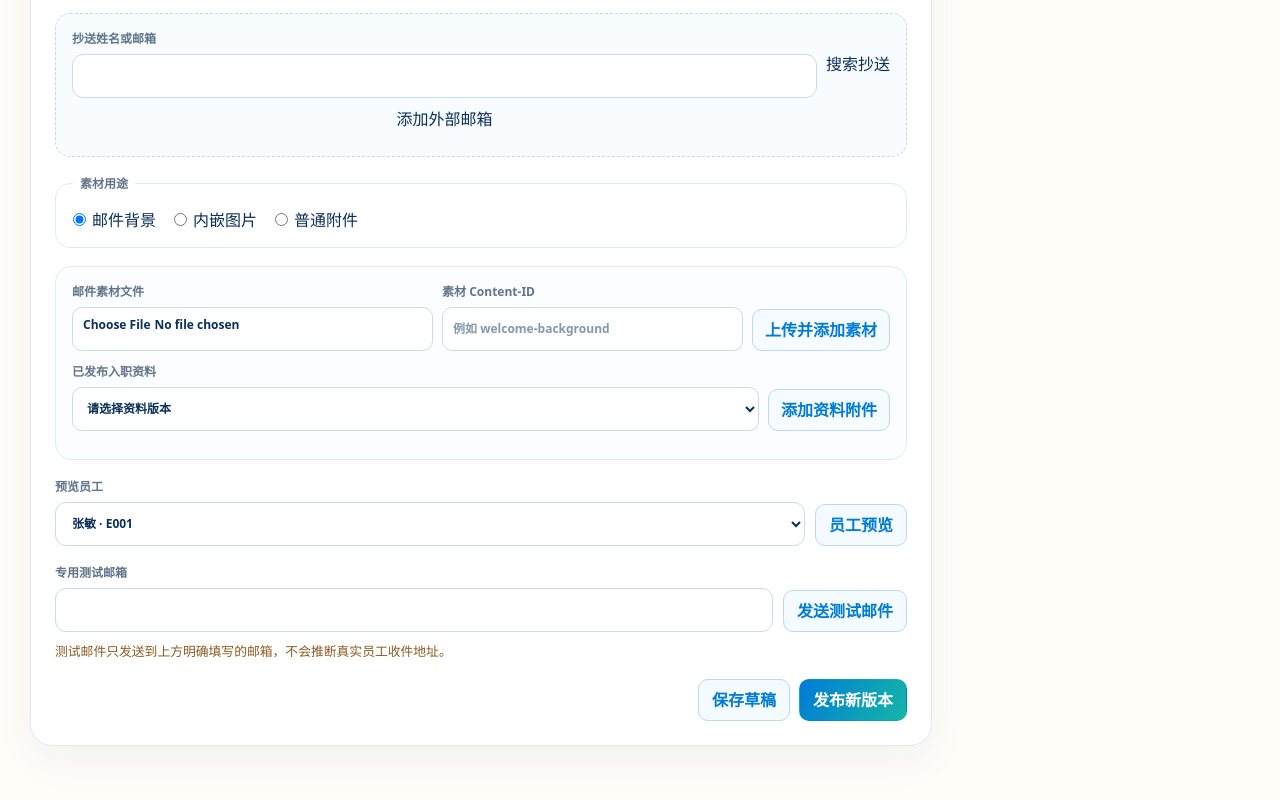
Test case: onboarding mail center interactions › requires an explicit test mailbox and exposes SMTP-tested automation confirmation
(page scrolled)
Click the button "发送测试邮件": click(845, 611) [783,590,907,632]
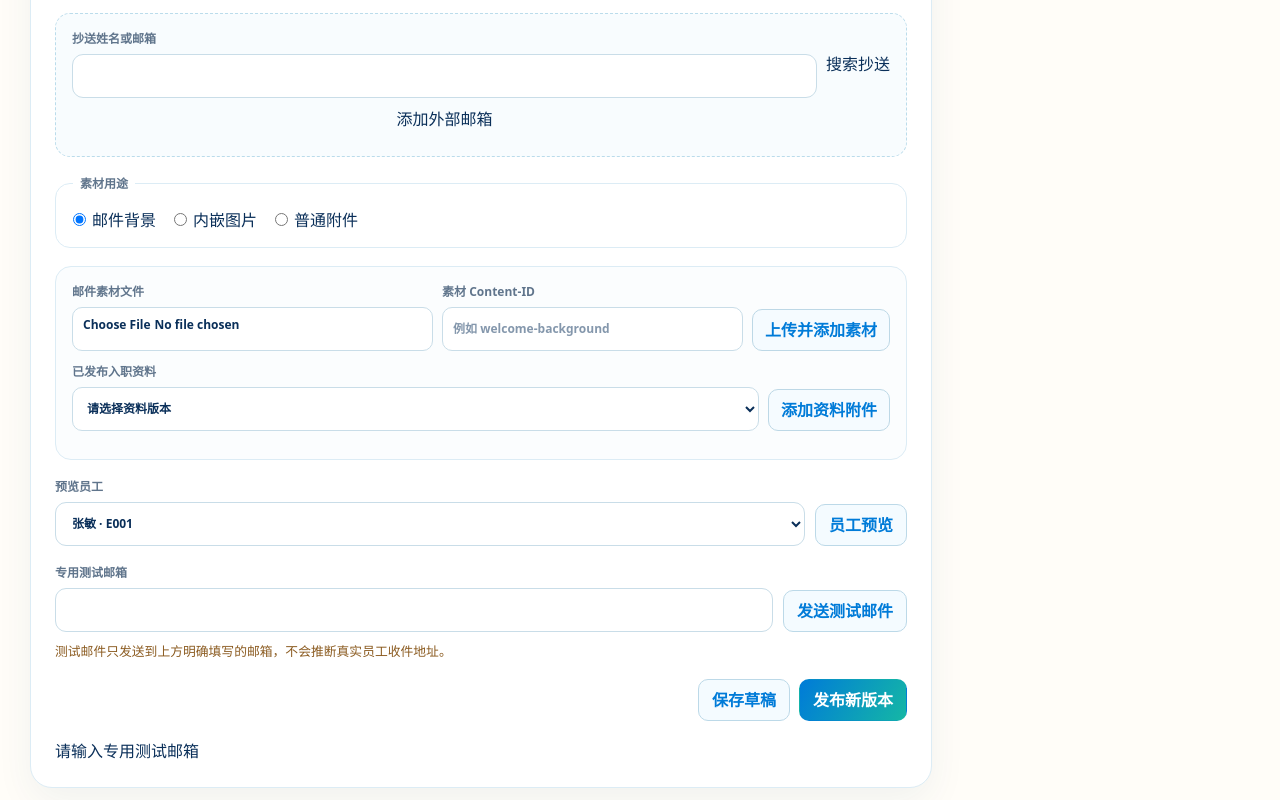
Result: the text "请输入专用测试邮箱" is shown at [55,740,199,762]
In the field labelled "专用测试邮箱": (414, 610) [55,588,773,632], type "qa@example.invalid"
Click the button "发送测试邮件": click(845, 611) [783,590,907,632]
(page scrolled)
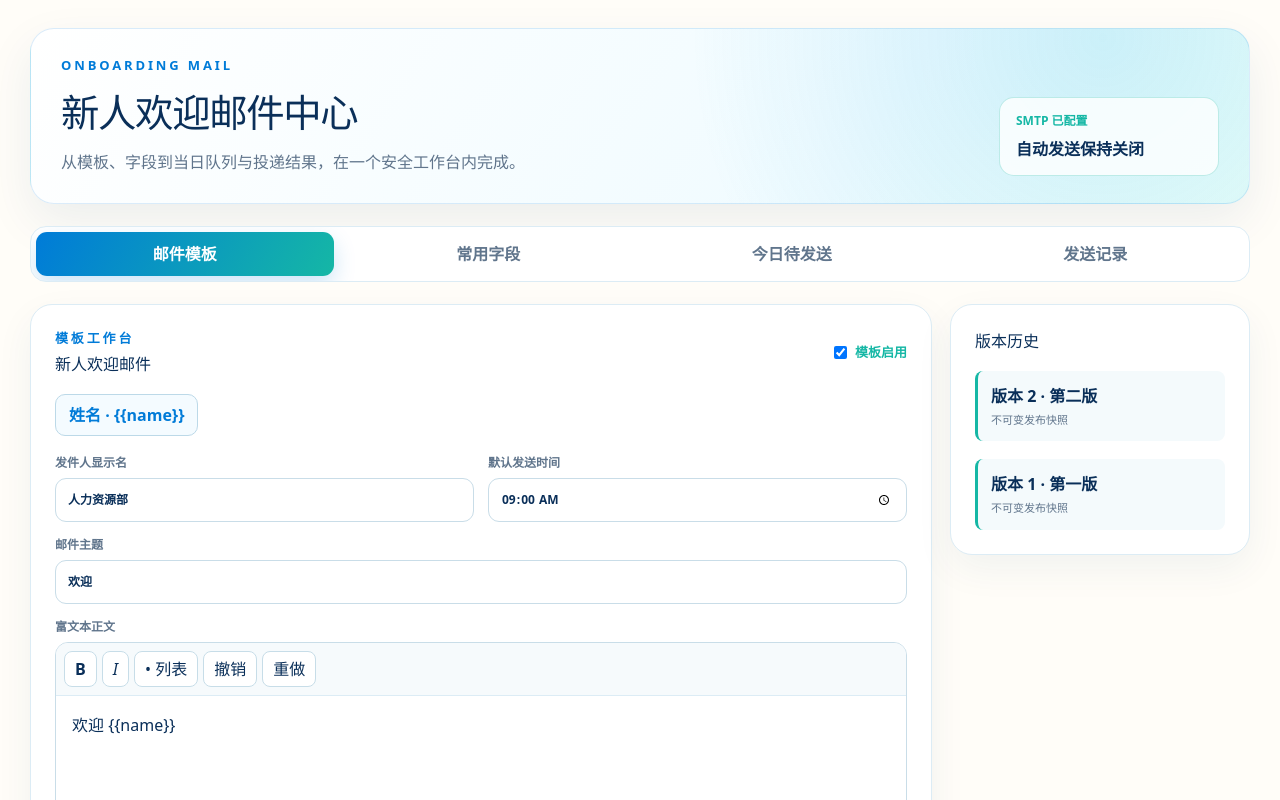
Click the tab "今日待发送": click(792, 254) [643,232,940,276]
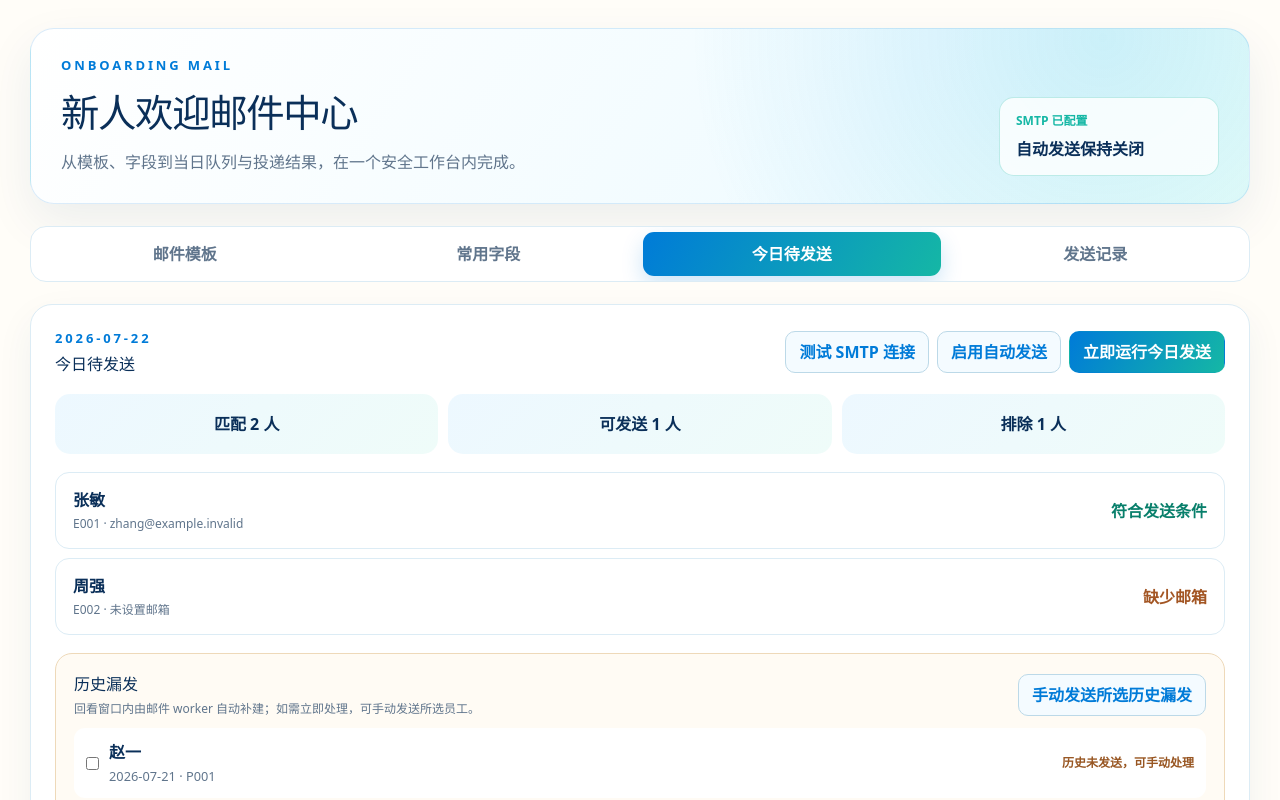
Click the button "测试 SMTP 连接": click(857, 352) [785,331,929,373]
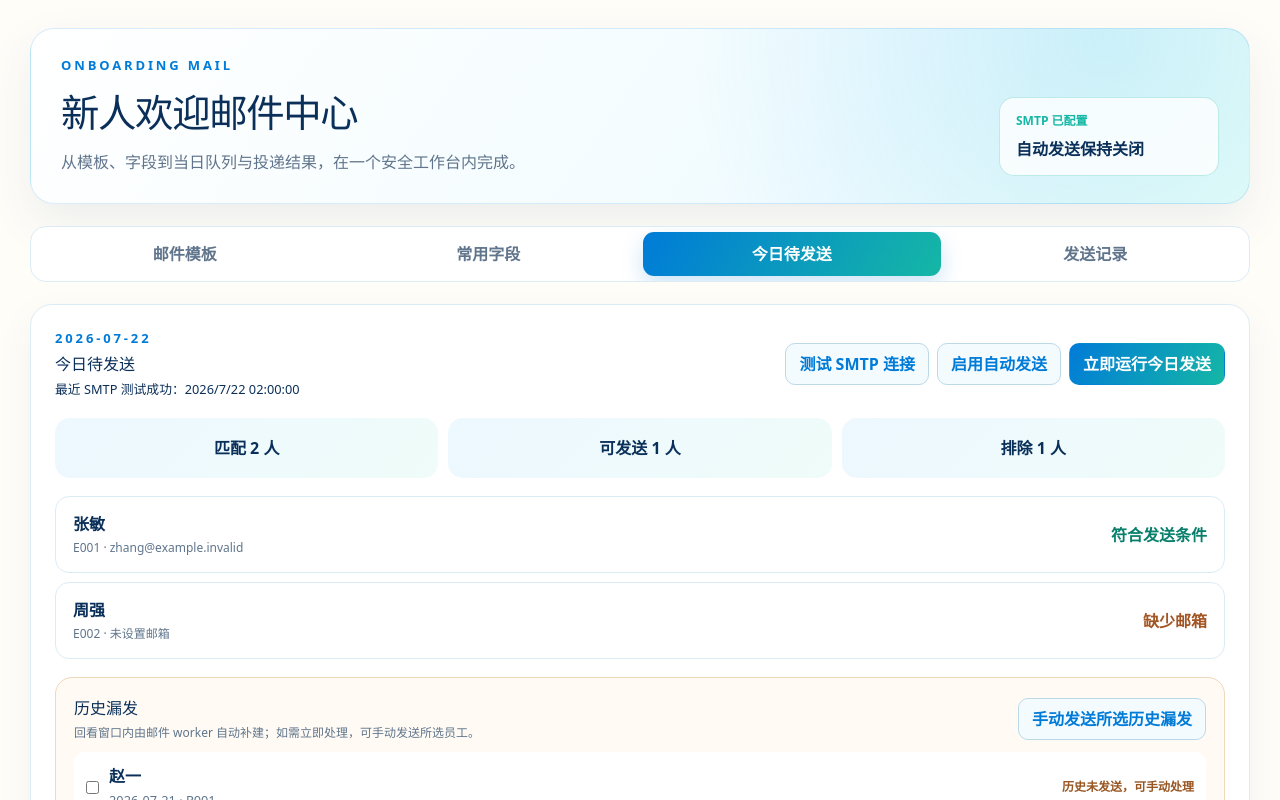
Result: the text "最近 SMTP 测试成功：2026/7/22 02:00:00" is shown at [55,380,300,398]
Click the button "启用自动发送": click(999, 364) [937,343,1061,385]
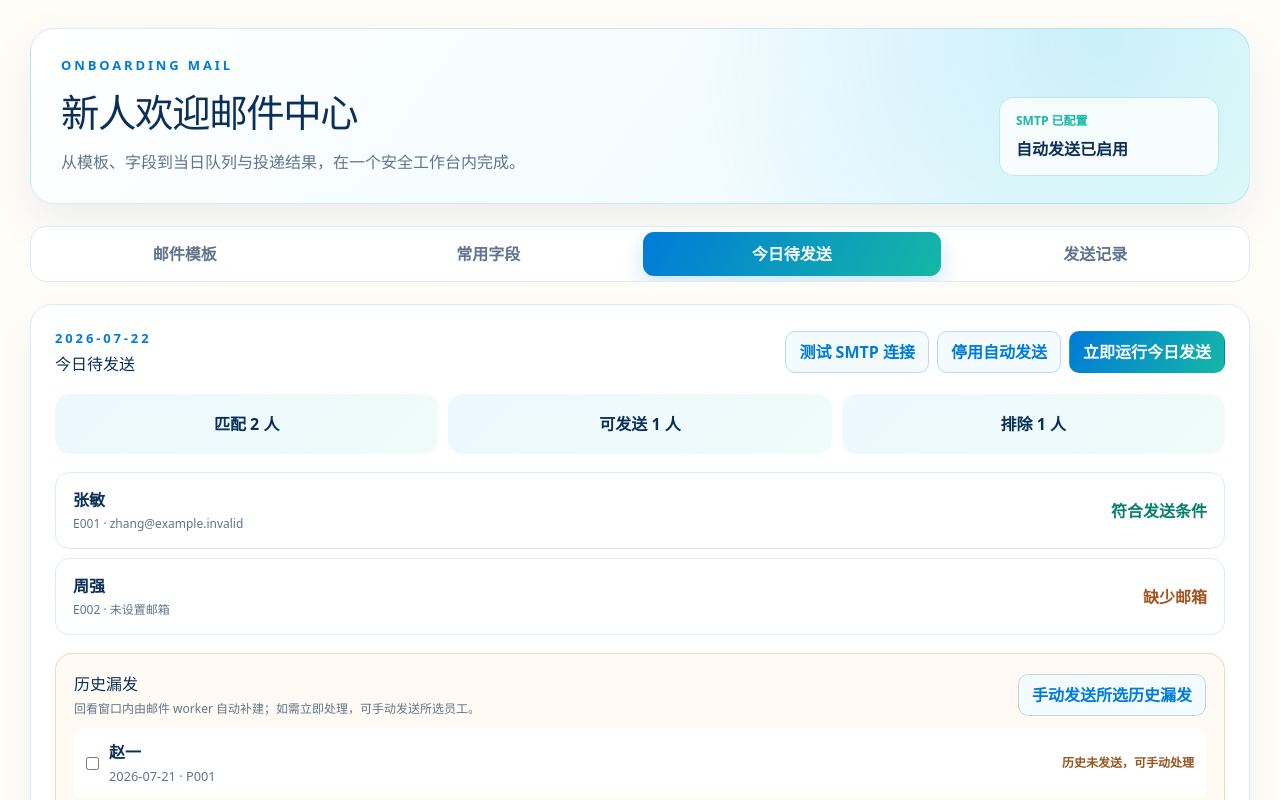
Click the button "停用自动发送": click(999, 352) [937,331,1061,373]
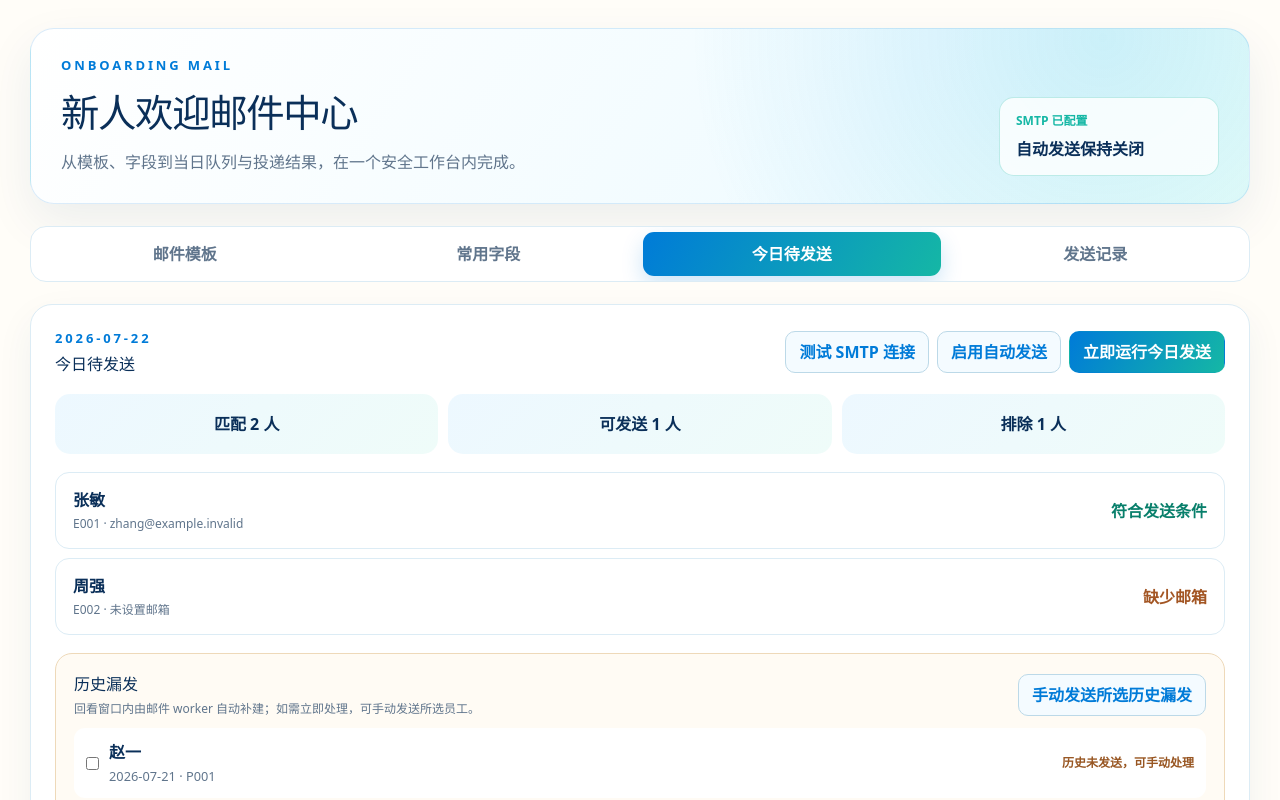
Result: the button "启用自动发送" is shown at [937,331,1061,373]
